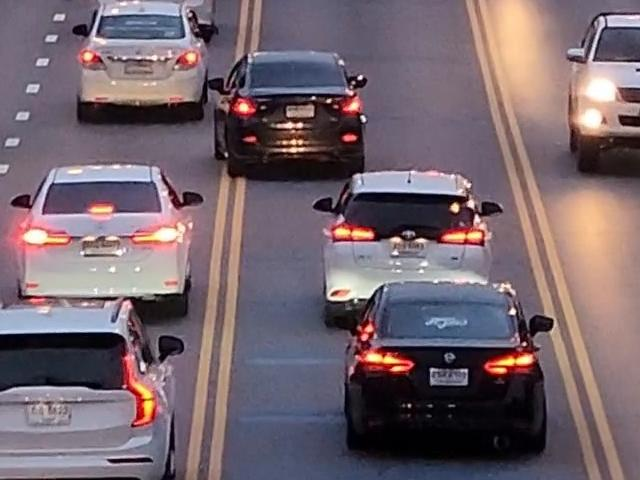car: (340, 282, 563, 448), (0, 298, 186, 480), (310, 162, 533, 312), (18, 162, 211, 312), (210, 52, 363, 195), (563, 0, 640, 171), (80, 22, 213, 112), (88, 0, 231, 28)
